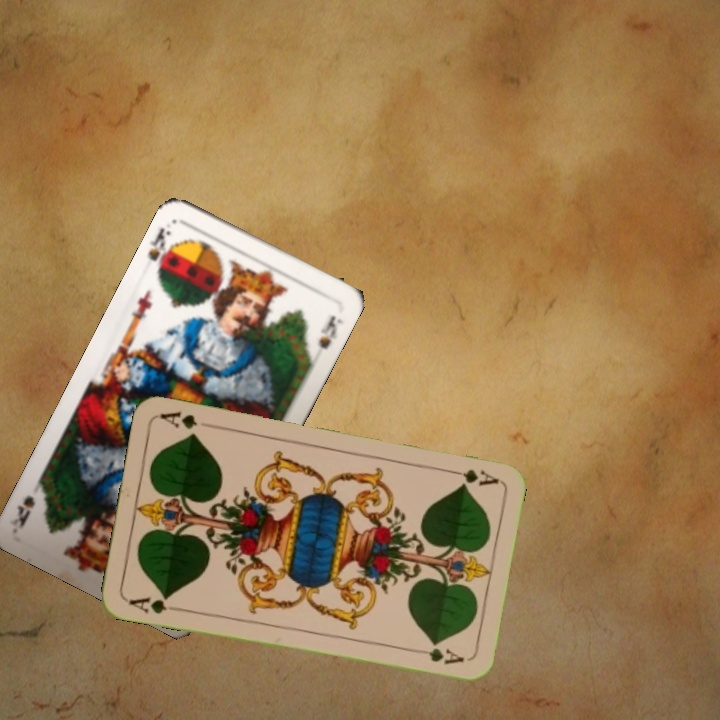GA: (125, 591, 183, 616), (442, 465, 501, 488)
SK: (144, 223, 179, 274)
